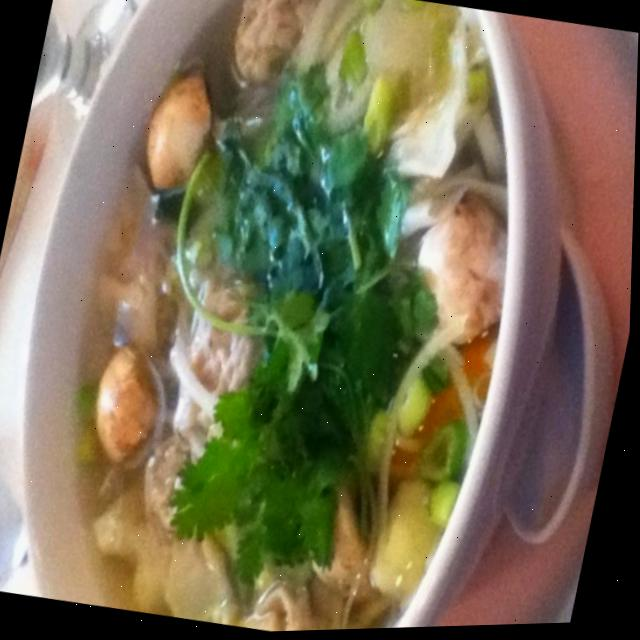汤锅炖物: (1, 0, 566, 640)
